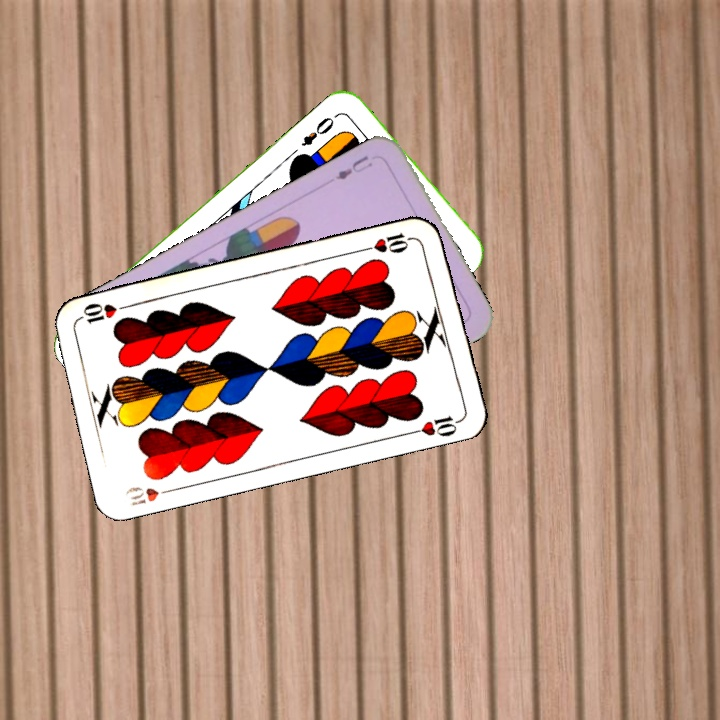EO: (297, 113, 337, 149)
EU: (331, 151, 376, 183)
H10: (360, 229, 418, 256), (121, 482, 179, 508)
